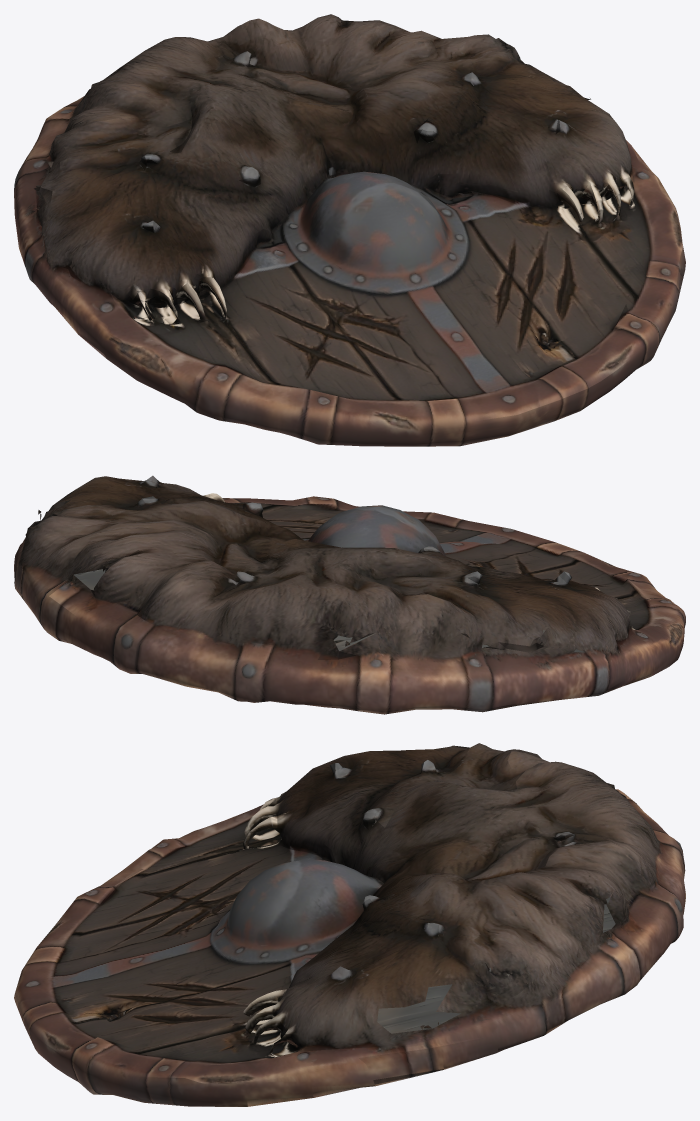
The model's file is Meshy_AI_berserker_0123163217_texture.fbx.
3 renders of one model, top to bottom at view 1: azimuth 30°, elevation 25°; view 2: azimuth 150°, elevation 25°; view 3: azimuth 270°, elevation 25°, orthographic.
Parts seen in each view (by area): view 1: Mesh0; view 2: Mesh0; view 3: Mesh0.
Boxes of the visible parts, box(x1,y1,x2,y2) form: Mesh0: box(14, 14, 685, 446); Mesh0: box(14, 475, 685, 714); Mesh0: box(14, 743, 685, 1106).
Size of the model in its own units: 191 by 61.98 by 190.
1 material, 1 textured.
